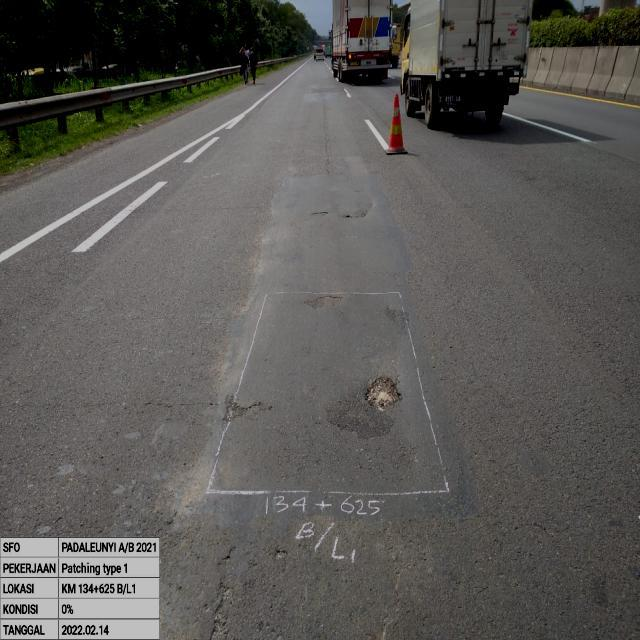Buraco: (361, 374, 405, 417)
